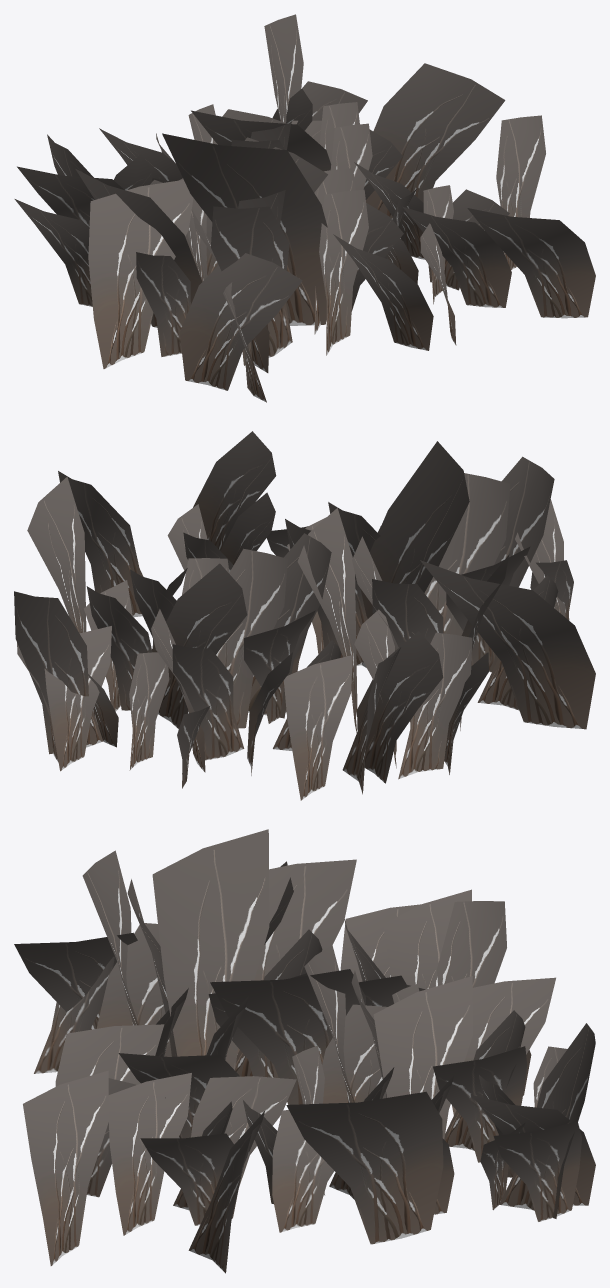
File: Grass_A_Group_04.FBX
3 renders of one model, top to bottom at view 1: azimuth 30°, elevation 25°; view 2: azimuth 150°, elevation 25°; view 3: azimuth 270°, elevation 25°, orthographic. The views are drawn at different scales.
Parts seen in each view (by area): view 1: Grass_A_Group_04; view 2: Grass_A_Group_04; view 3: Grass_A_Group_04.
Part boxes in pixels (x1,y1,x2,y2): Grass_A_Group_04: [14, 14, 595, 402]; Grass_A_Group_04: [14, 431, 595, 800]; Grass_A_Group_04: [14, 829, 595, 1273].
Size of the model in its own units: 220 by 90.73 by 199.
